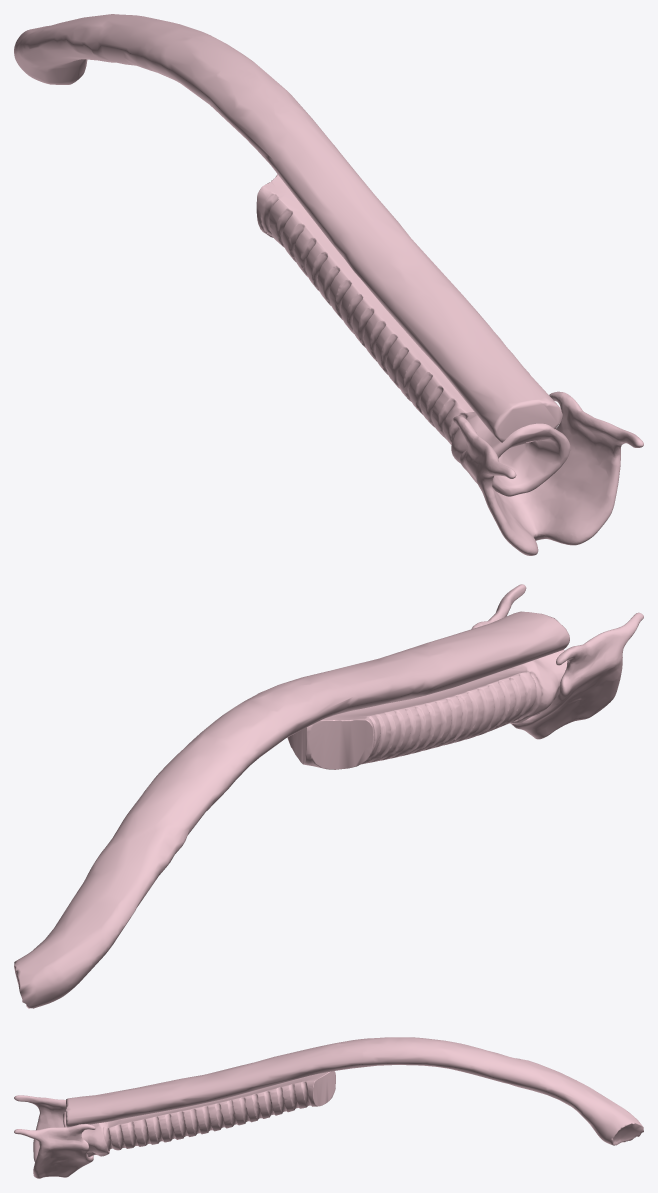
Rendered from cou-organes.glb.
The picture shows the model from 3 angles, top to bottom: view 1: azimuth 30°, elevation 25°; view 2: azimuth 150°, elevation 25°; view 3: azimuth 270°, elevation 25°; orthographic projection. The views are drawn at different scales.
Visible parts, largest first — view 1: sophage, trachee, cartilage_thyroide; view 2: sophage, trachee, cartilage_thyroide; view 3: sophage, trachee, cartilage_thyroide.
Boxes of the visible parts, <box> form: sophage: <box>14,14,562,442</box>; trachee: <box>256,174,570,496</box>; cartilage_thyroide: <box>453,391,643,555</box>; sophage: <box>14,611,569,1008</box>; trachee: <box>287,649,567,769</box>; cartilage_thyroide: <box>471,584,643,739</box>; sophage: <box>66,1037,643,1145</box>; trachee: <box>63,1071,335,1156</box>; cartilage_thyroide: <box>14,1095,95,1178</box>.
Bounding box in the file's own units: 38.59 × 65.77 × 272.
